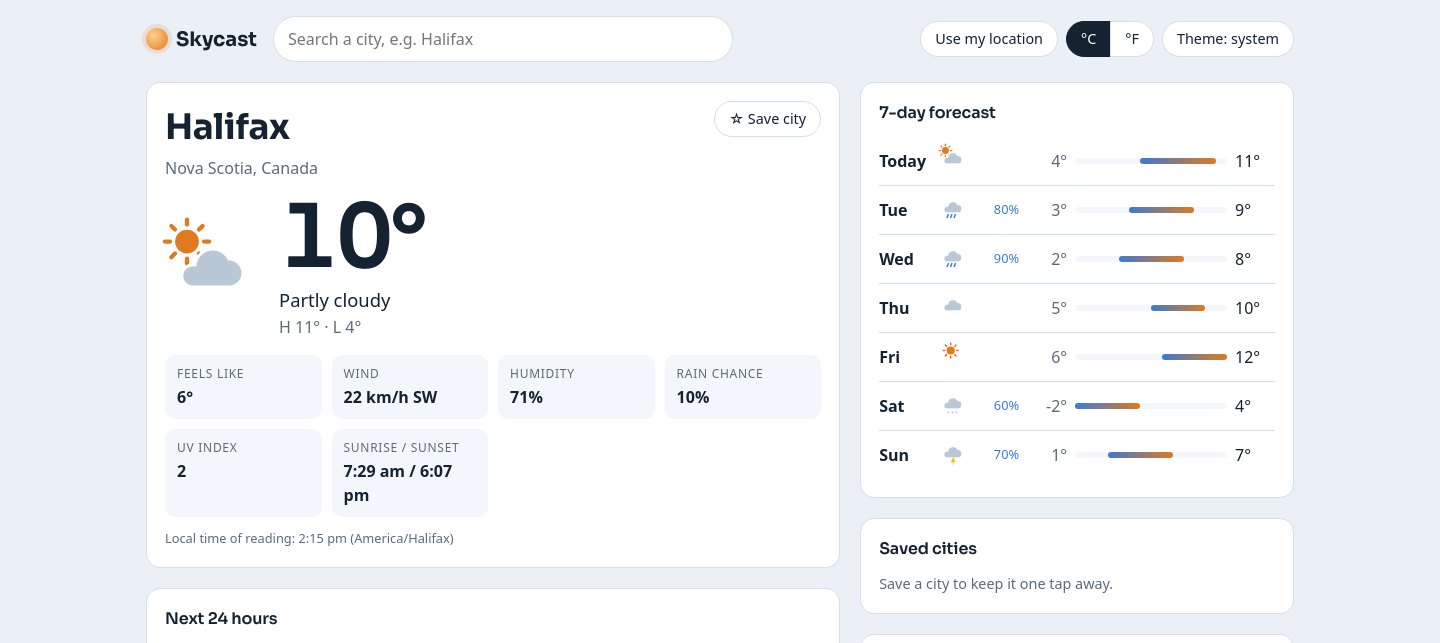
App › searches for a city with the keyboard and updates the URL
Expected: the heading "Halifax" is shown, top-left (165, 105), bottom-right (290, 149)
Type "Ottawa" into the dropdown named "search for a city" at point(503, 39), box top-left (273, 16), bottom-right (733, 62)
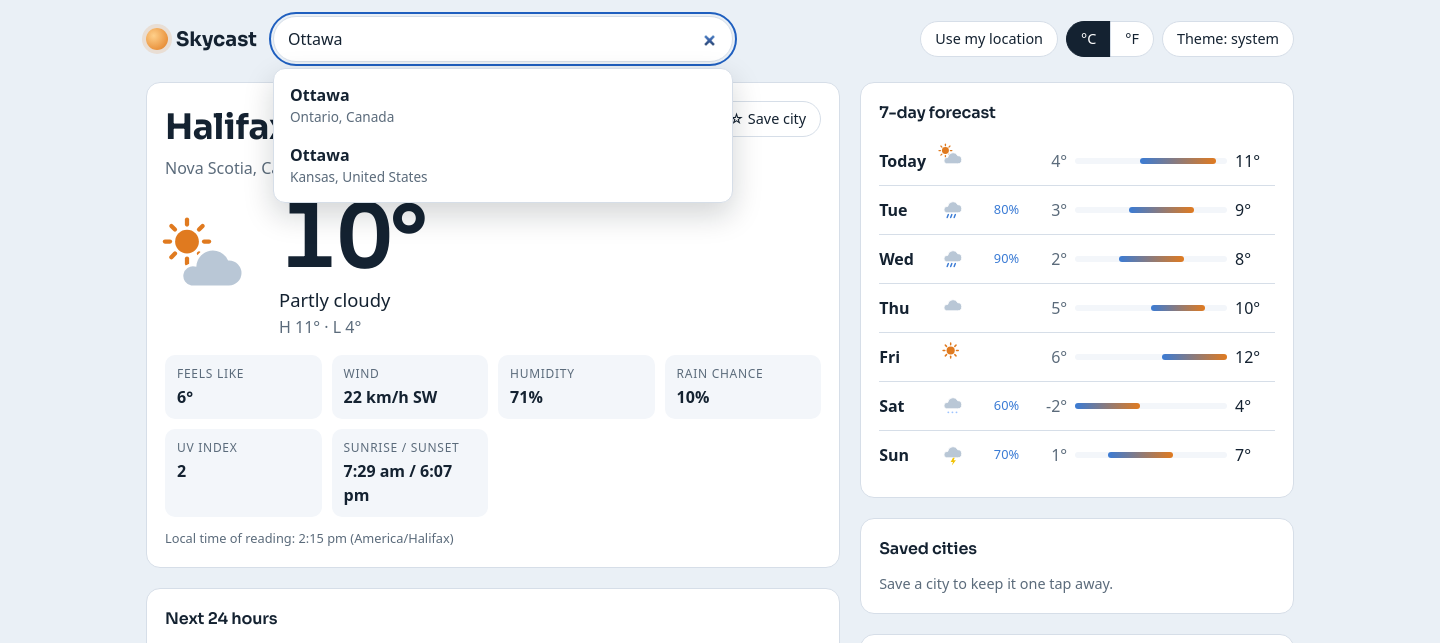
Now the number of options is 2, box top-left (290, 84), bottom-right (394, 126); top-left (290, 144), bottom-right (428, 186)
Press Arrowdown Enter
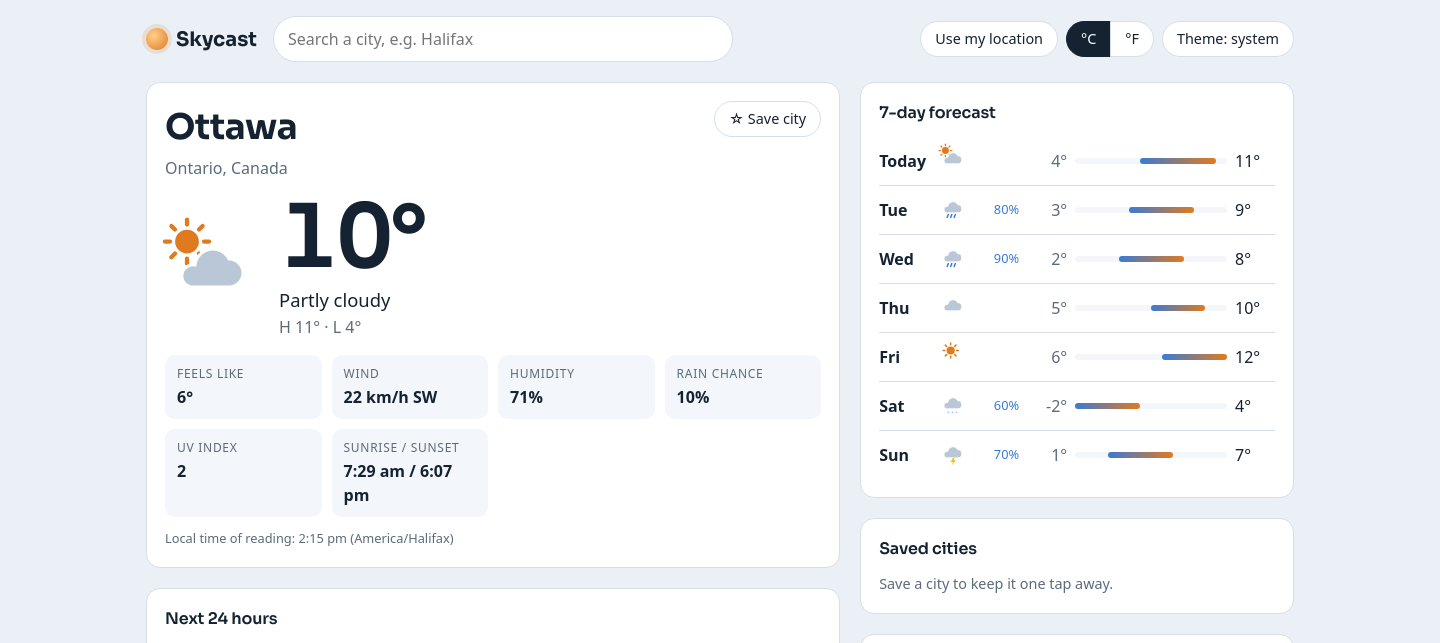
Now the heading "Ottawa" is shown, box top-left (165, 101), bottom-right (297, 154)
